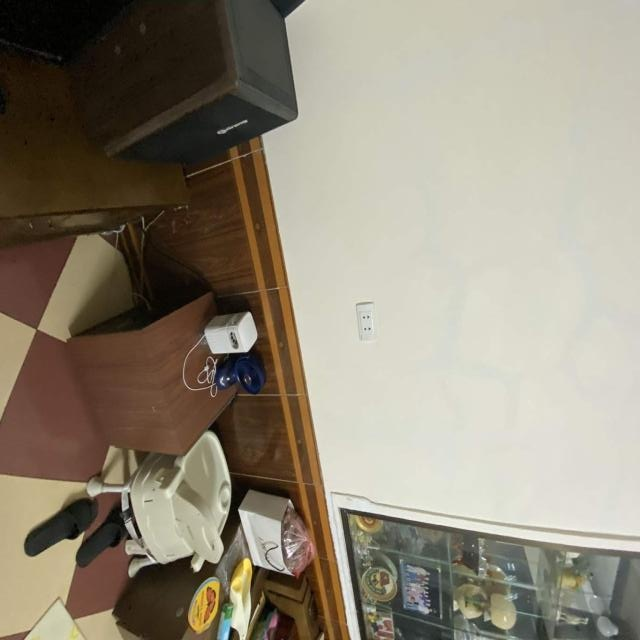outlet: (356, 302, 377, 341)
